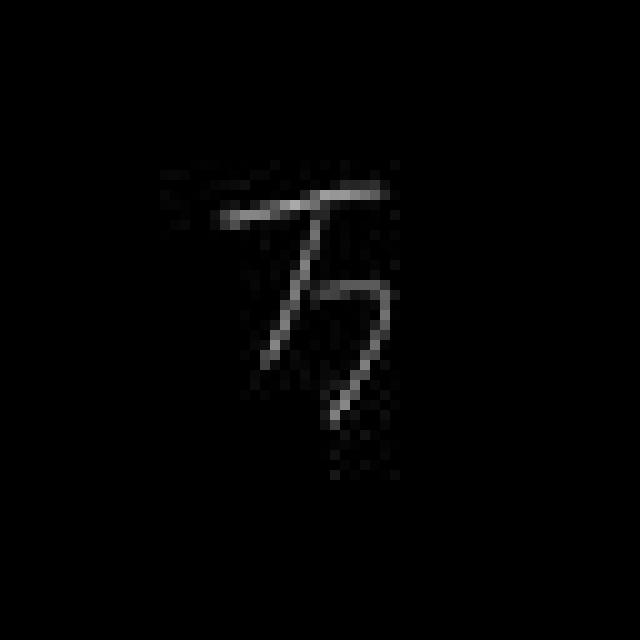10000 -a ten thousand-: (206, 165, 409, 440)
